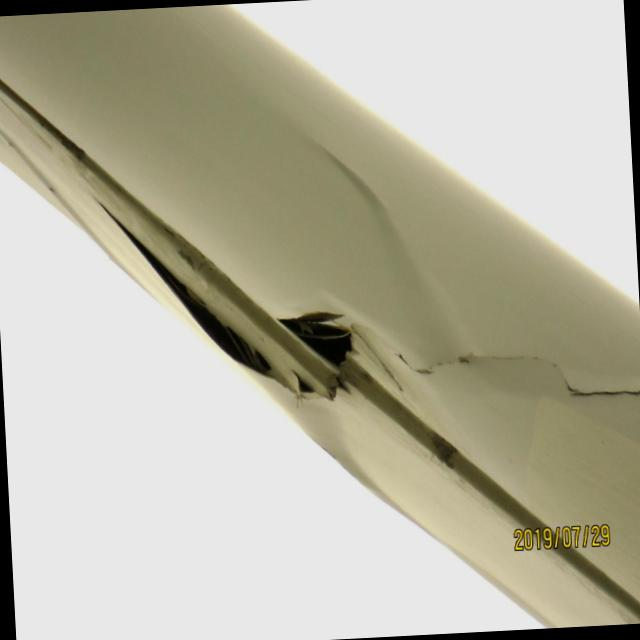crack: (129, 201, 634, 443)
